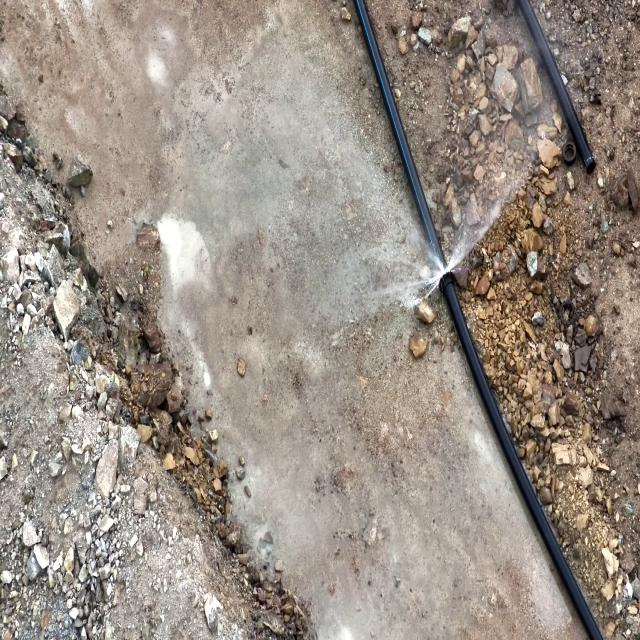leak: (349, 171, 535, 325)
